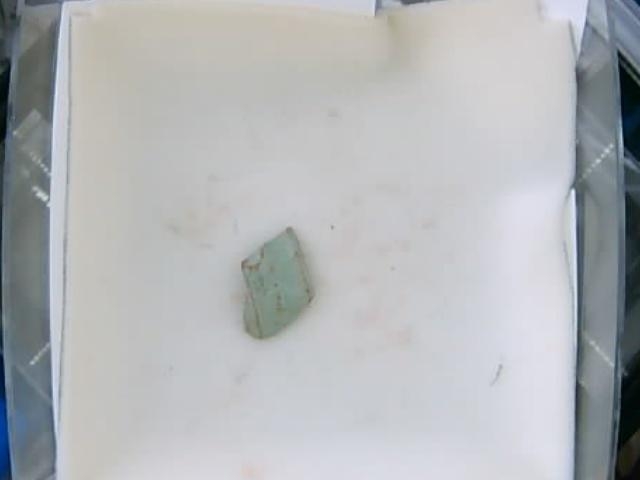China: (234, 228, 314, 341)
